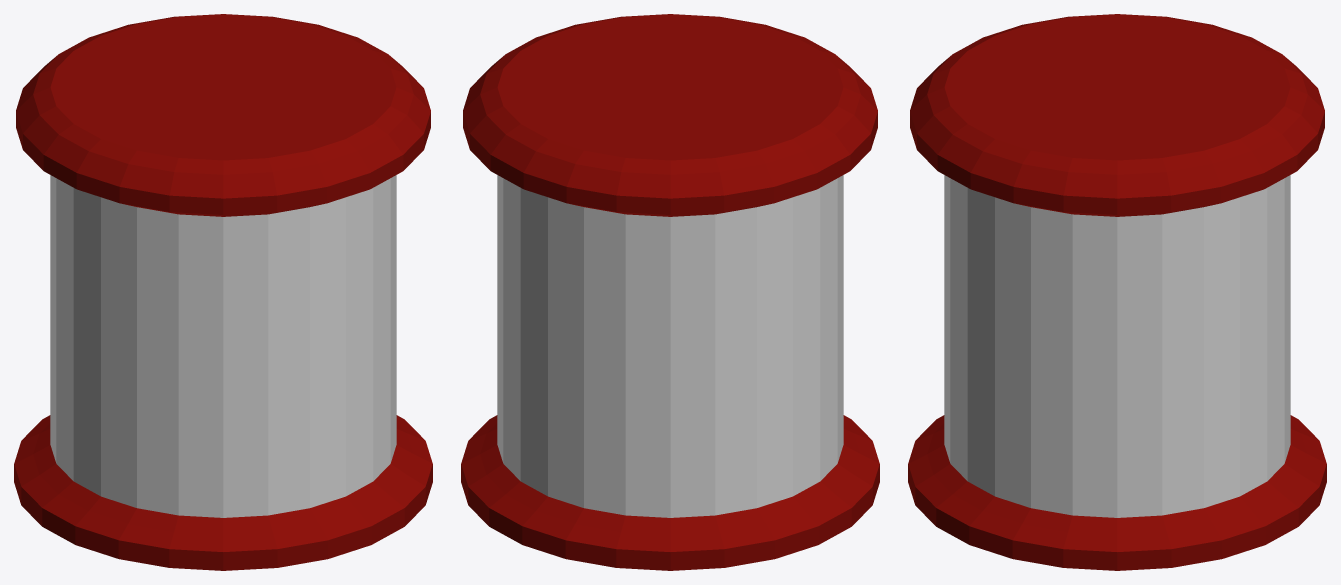
Rendered from Strange_Device2.fbx.
3 renders of one model, left to right at view 1: azimuth 30°, elevation 25°; view 2: azimuth 150°, elevation 25°; view 3: azimuth 270°, elevation 25°, orthographic.
Visible parts, largest first — view 1: Glass.001, Frame.001; view 2: Glass.001, Frame.001; view 3: Glass.001, Frame.001.
Part boxes in pixels (x1,y1,x2,y2): Glass.001: (50,175,396,517); Frame.001: (14,14,432,570); Glass.001: (497,175,843,517); Frame.001: (461,14,879,570); Glass.001: (944,175,1290,517); Frame.001: (908,14,1326,570).
Size of the model in its own units: 151 by 157 by 151.
